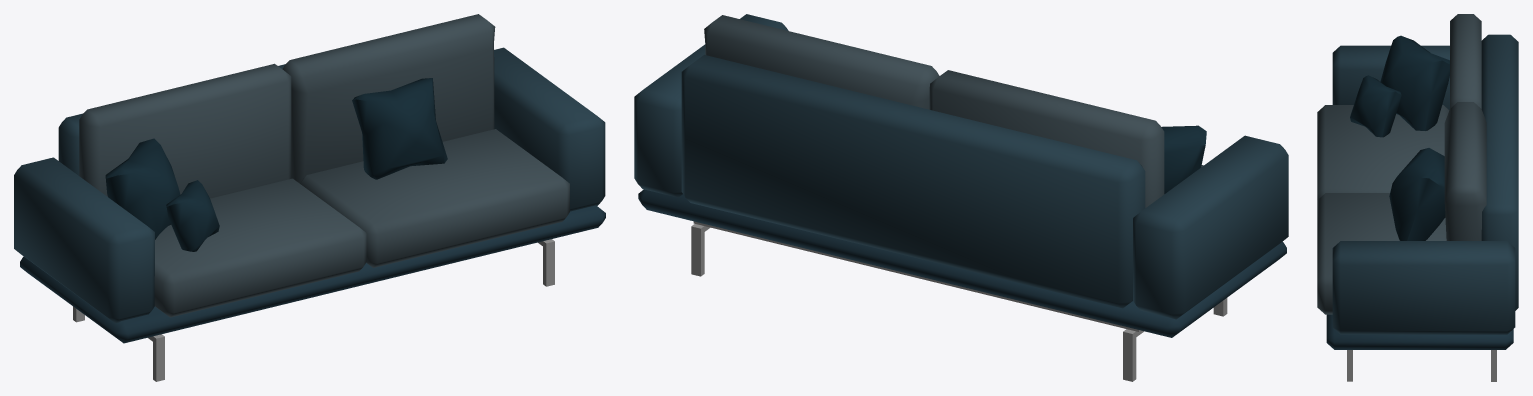
File: sofa012.glb
The picture shows the model from 3 angles, left to right: view 1: azimuth 30°, elevation 25°; view 2: azimuth 150°, elevation 25°; view 3: azimuth 270°, elevation 25°; orthographic projection. The views are drawn at different scales.
Visible parts, largest first — view 1: sofa.012; view 2: sofa.012; view 3: sofa.012.
Boxes of the visible parts, box(x1,y1,x2,y2) form: sofa.012: box(14, 14, 605, 381); sofa.012: box(634, 14, 1288, 381); sofa.012: box(1317, 14, 1518, 381).
Size of the model in its own units: 2.43 by 1.03 by 0.9586.
Materials: 1 (1 with a texture image).
